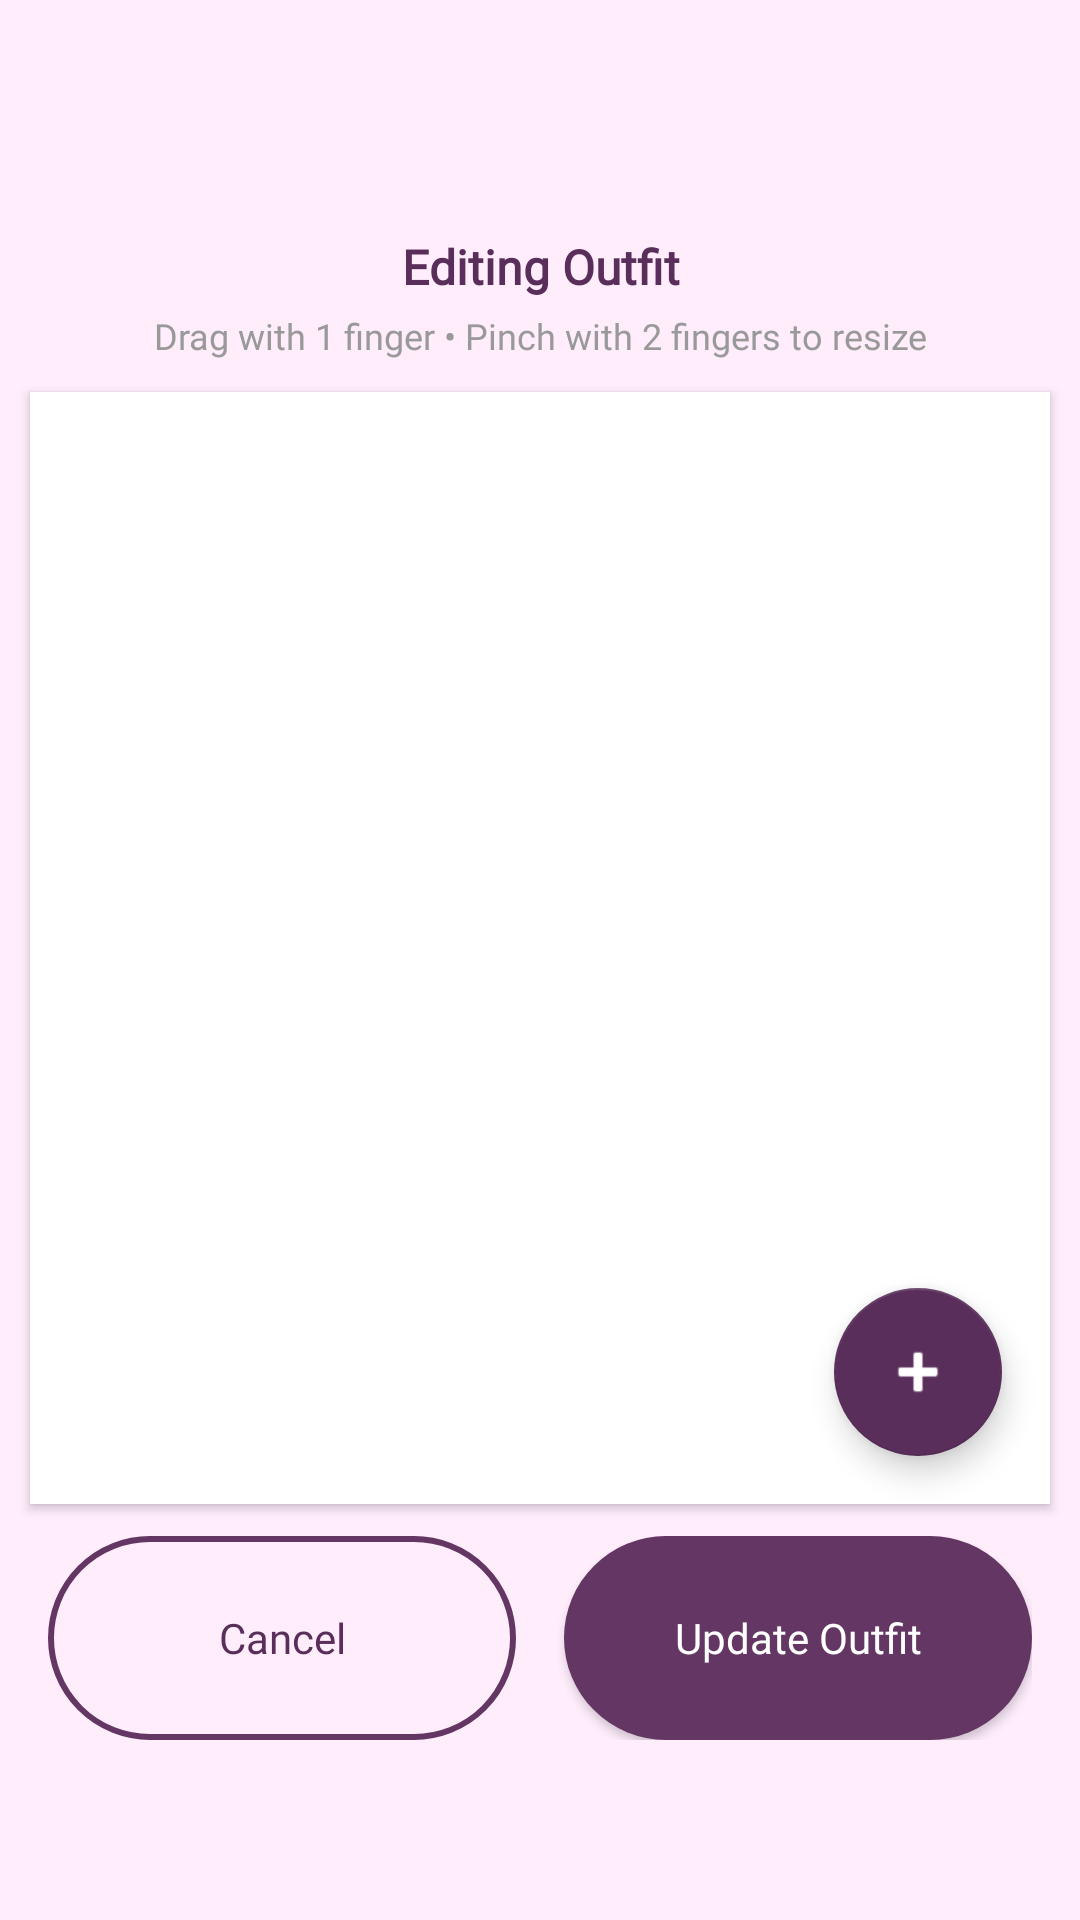

Icon bounding boxes for this 1080 × 1920 phone screenshot, format [left=x1, top=y1, right=x2, bottom=y2]:
Add items to outfit: [left=834, top=1288, right=1002, bottom=1456]
